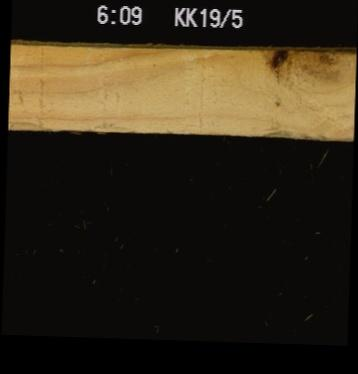wave: (252, 123, 330, 137), (86, 116, 136, 131), (7, 116, 53, 128)
